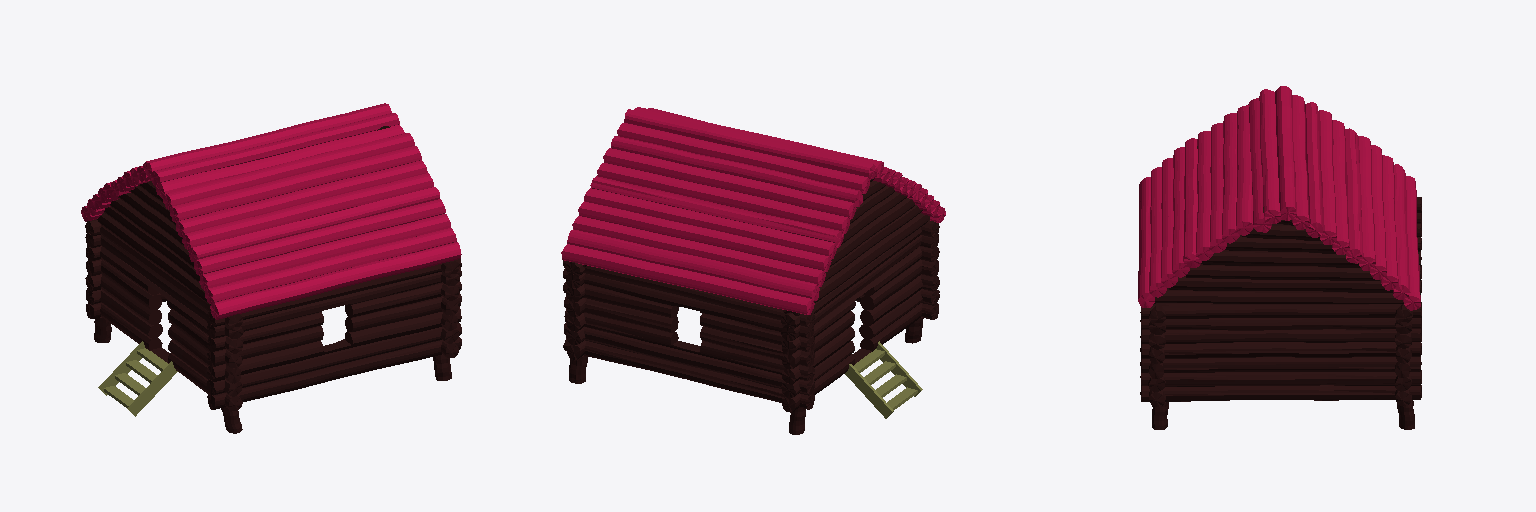
File: Shadow_Valley_House.obj
The picture shows the model from 3 angles: view 1: azimuth 30°, elevation 25°; view 2: azimuth 150°, elevation 25°; view 3: azimuth 270°, elevation 25°; orthographic projection.
Visible parts, largest first — view 1: dach, wand, treppe; view 2: dach, wand, treppe; view 3: wand, dach.
Boxes of the visible parts, box(x1,y1,x2,y2) form: dach: box(81, 103, 461, 319); wand: box(85, 126, 461, 433); treppe: box(98, 341, 177, 416); dach: box(561, 107, 945, 314); wand: box(563, 178, 939, 434); treppe: box(845, 341, 922, 418); wand: box(1140, 146, 1421, 429); dach: box(1138, 86, 1420, 310).
Bounding box in the file's own units: 26.89 × 21.49 × 23.44.